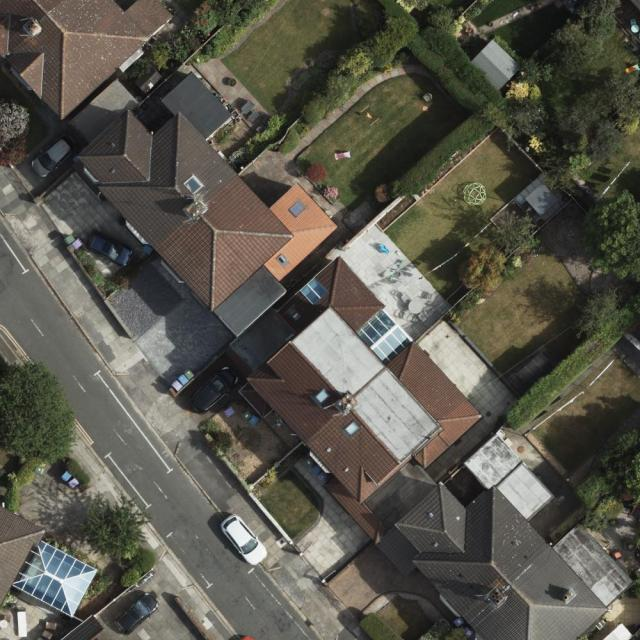roof: (69, 70, 635, 640), (0, 0, 175, 122), (0, 503, 98, 617), (59, 614, 106, 639)
skylight: (10, 538, 99, 618), (356, 309, 413, 367), (299, 278, 329, 304), (183, 175, 204, 195), (342, 418, 361, 438), (289, 199, 307, 218), (314, 389, 330, 405), (275, 251, 291, 265), (290, 308, 302, 320)
